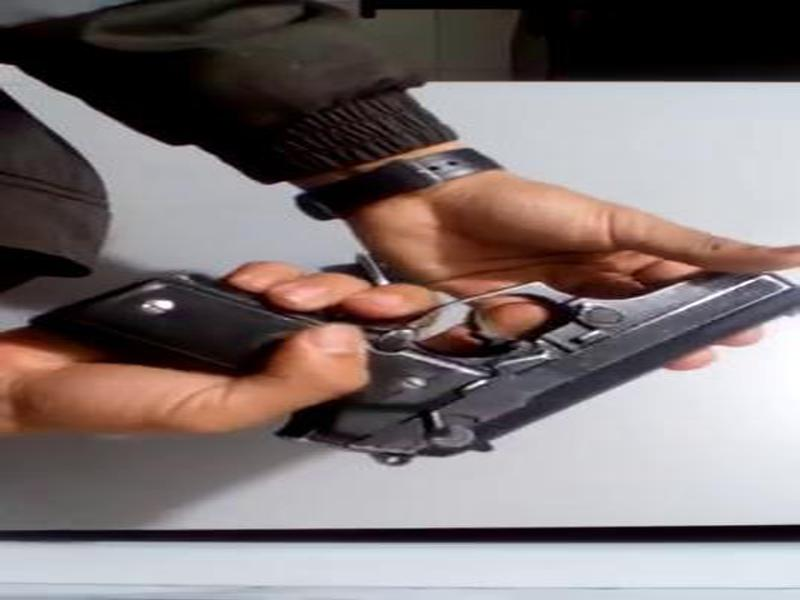Pistola: (72, 216, 796, 444)
